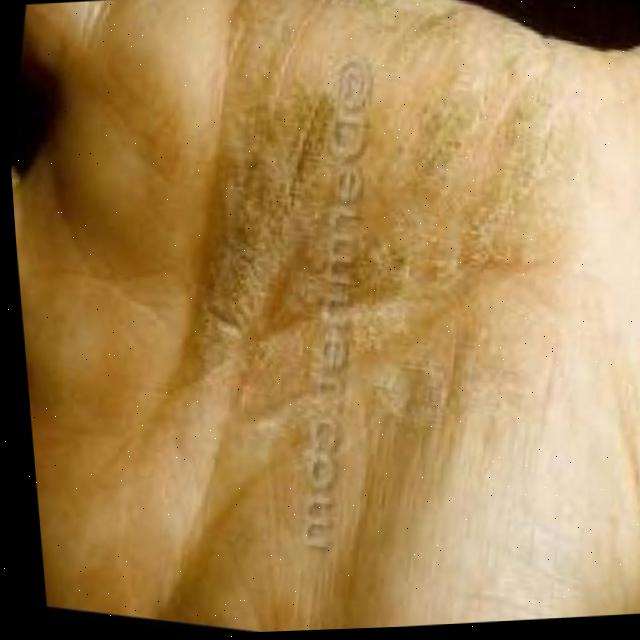Eczema: (140, 0, 583, 408)
